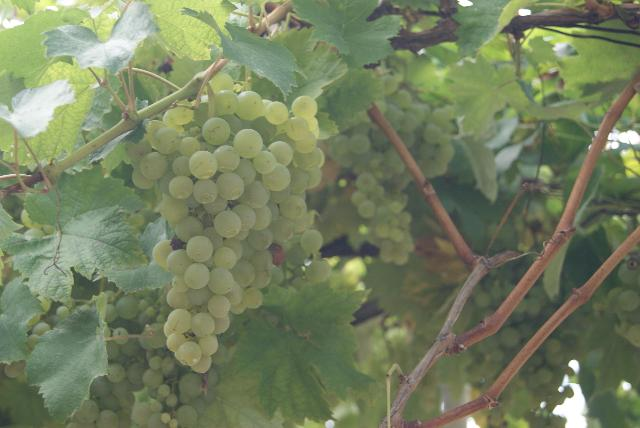grapes: (139, 126, 289, 375), (330, 120, 414, 265), (382, 100, 455, 179)
